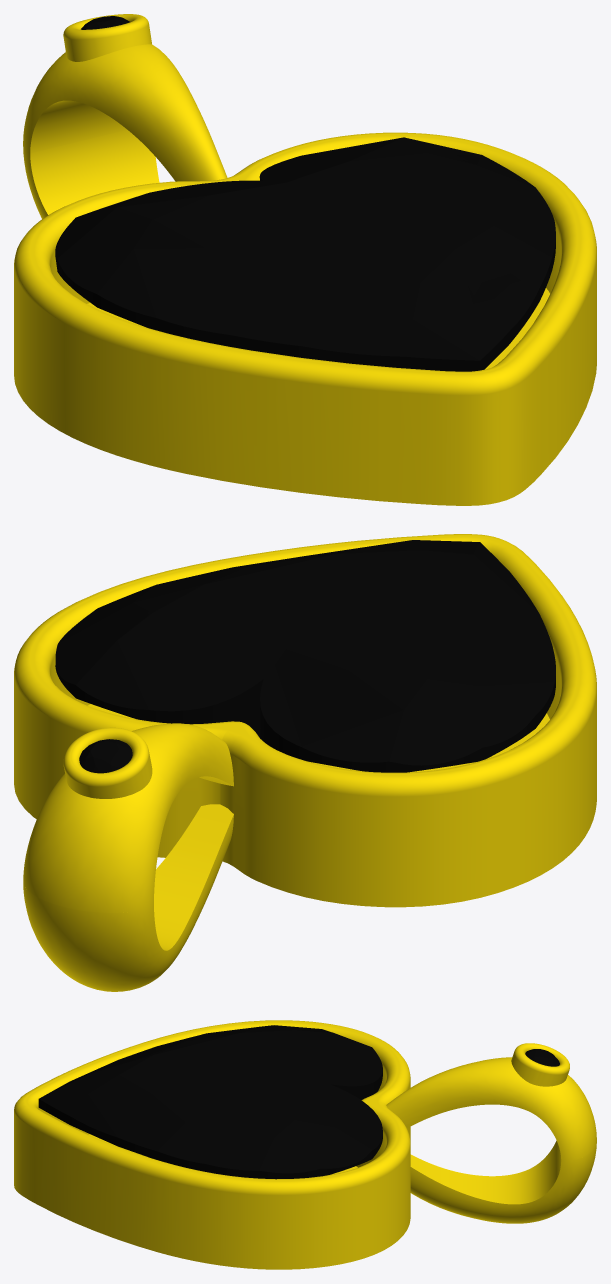
The model's file is heart pendant-optimized.glb.
The picture shows the model from 3 angles, top to bottom: view 1: azimuth 30°, elevation 25°; view 2: azimuth 150°, elevation 25°; view 3: azimuth 270°, elevation 25°; orthographic projection. The views are drawn at different scales.
Visible parts, largest first — view 1: object 2, Diamond_Heart; view 2: object 2, Diamond_Heart; view 3: object 2, Diamond_Heart.
Boxes of the visible parts, box(x1,y1,x2,y2) form: object 2: box(14, 14, 596, 505); Diamond_Heart: box(55, 16, 555, 371); object 2: box(14, 534, 596, 991); Diamond_Heart: box(55, 540, 555, 773); object 2: box(14, 1020, 596, 1269); Diamond_Heart: box(38, 1025, 559, 1179).
Bounding box in the file's own units: 0.0151 × 0.00711 × 0.022.
